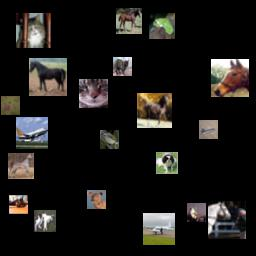airplane: (16, 117, 48, 149), (143, 213, 175, 245), (187, 203, 206, 222), (199, 120, 218, 139)
bird: (100, 130, 119, 149)
cat: (16, 13, 51, 48), (79, 79, 108, 108), (34, 210, 56, 232), (113, 57, 132, 76), (9, 195, 28, 214)
deer: (1, 96, 20, 115), (87, 190, 106, 209)
dog: (156, 152, 178, 174)
frog: (149, 13, 175, 39)
